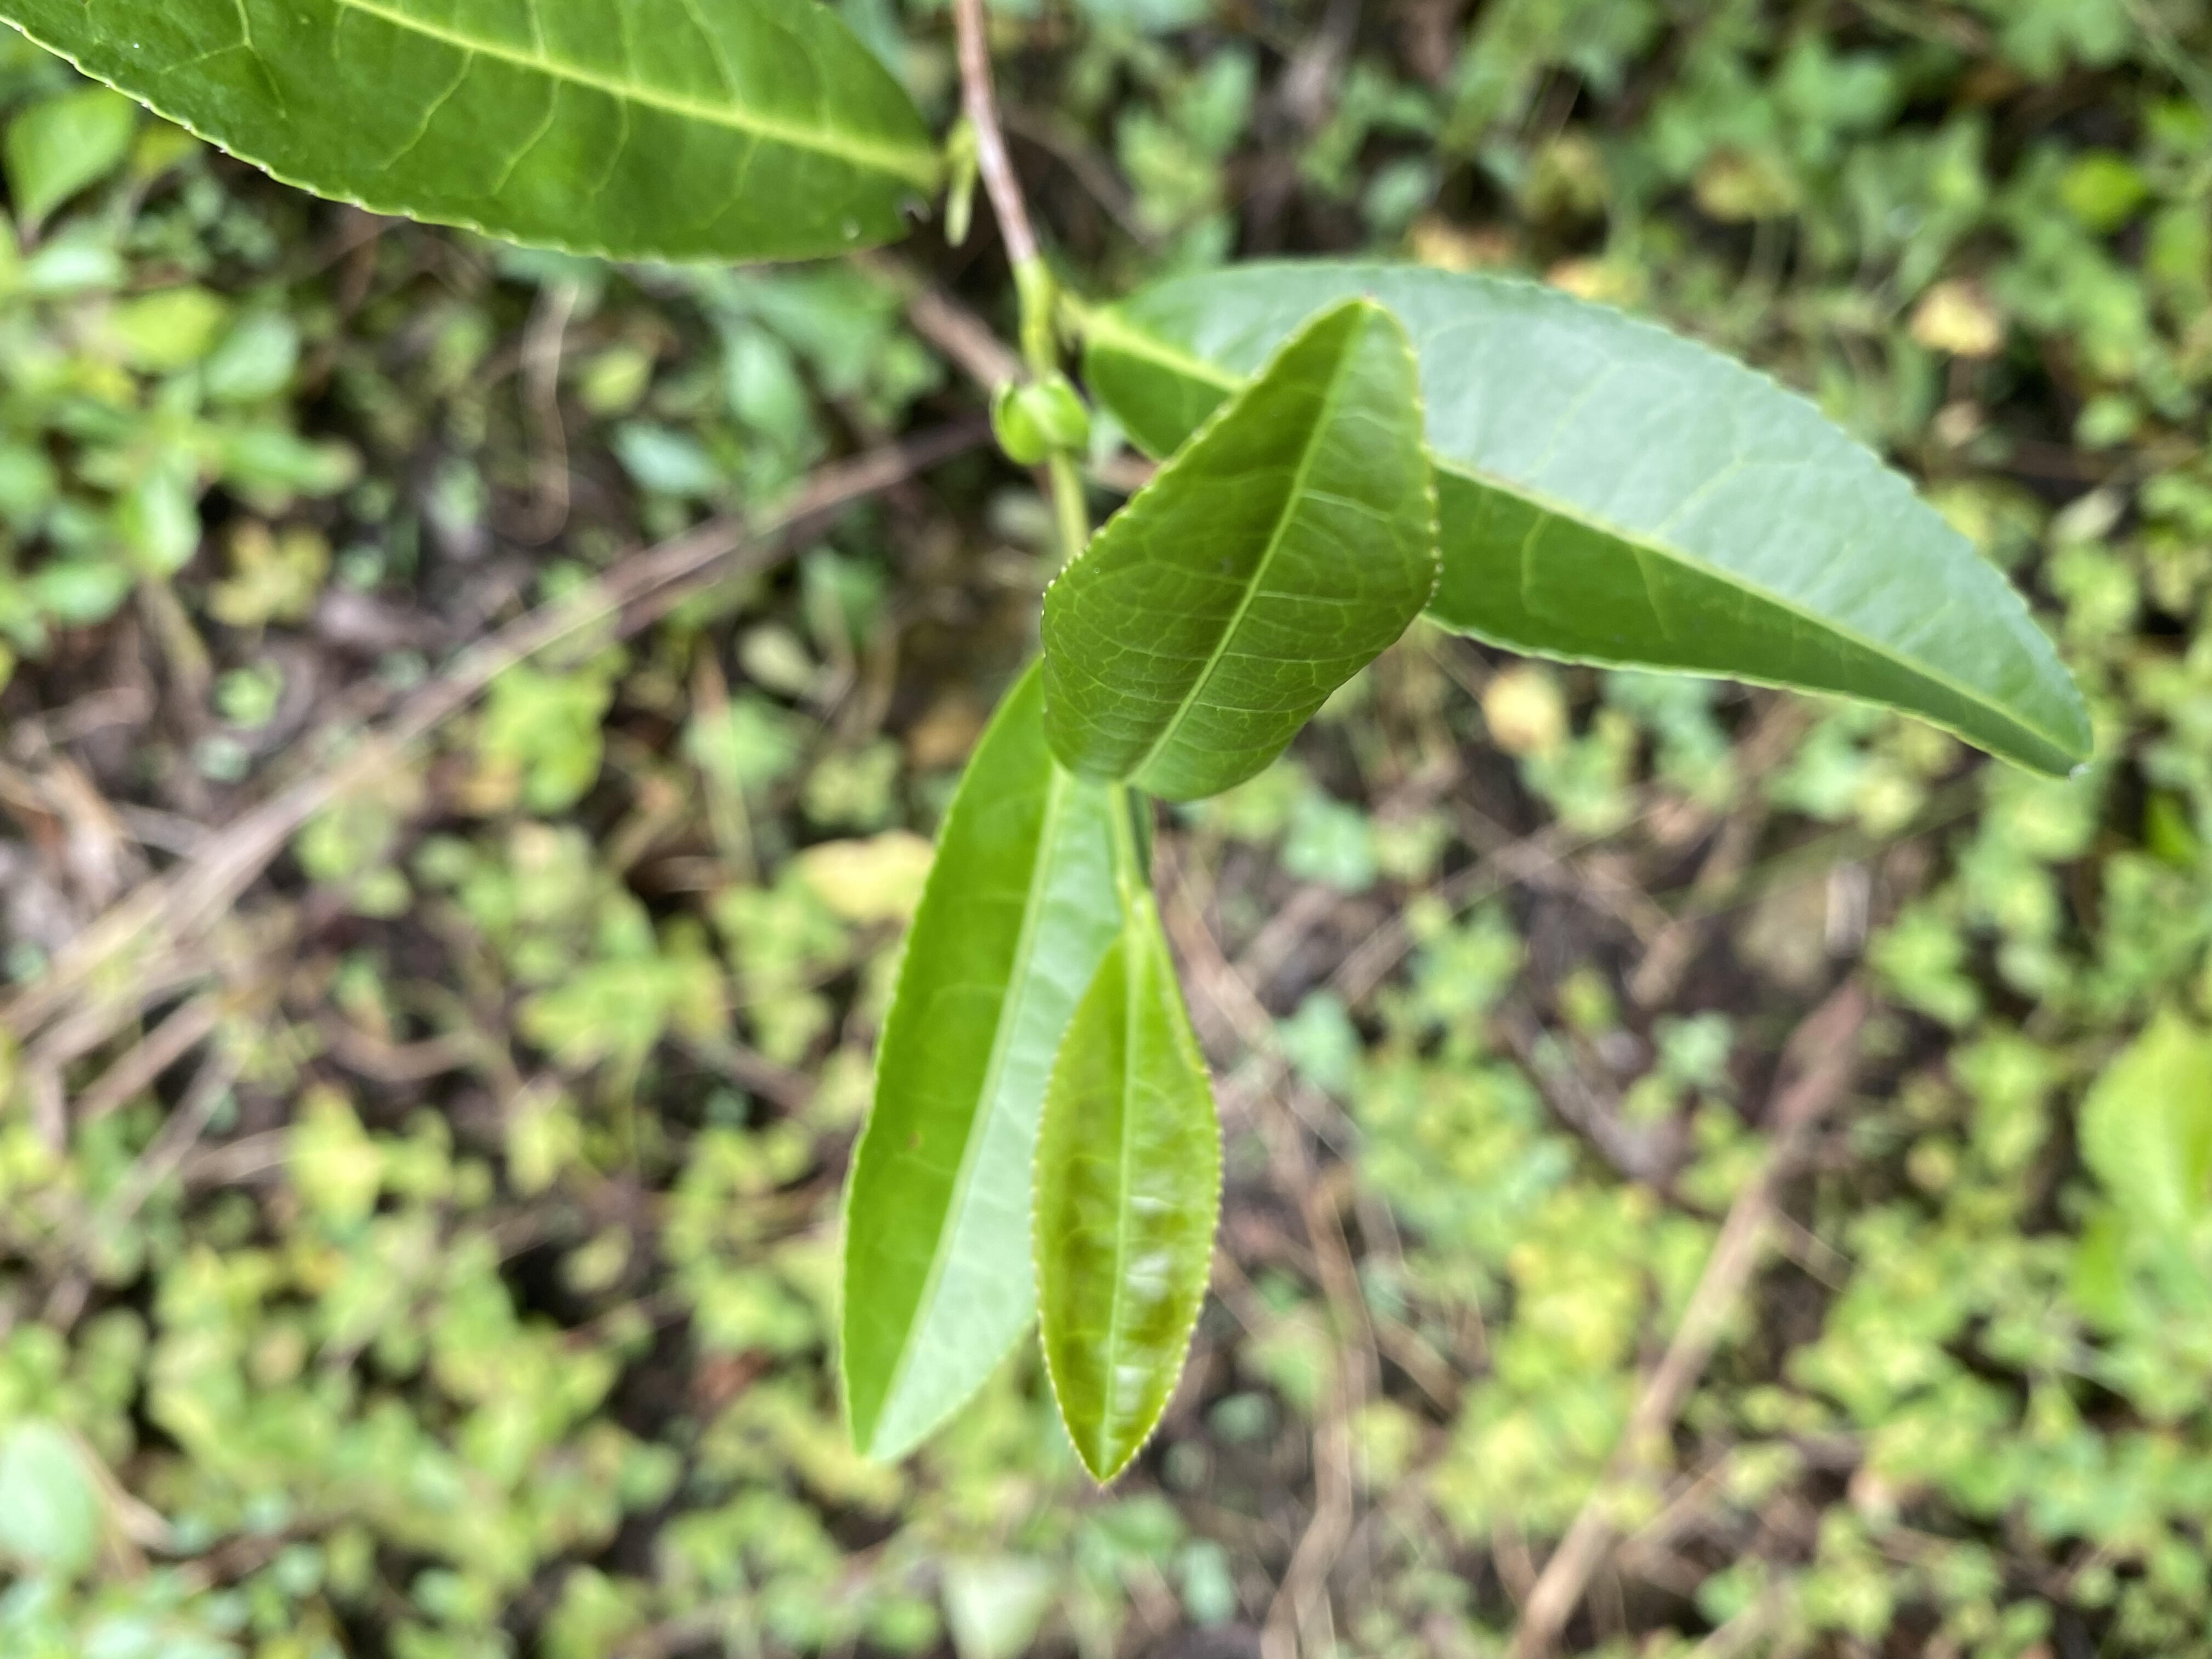healthy: (1083, 260, 2094, 786), (838, 647, 1144, 1466), (1033, 300, 1444, 805), (1028, 929, 1226, 1483)
